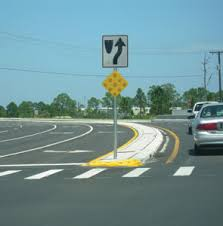keepRight: (100, 33, 128, 69)
